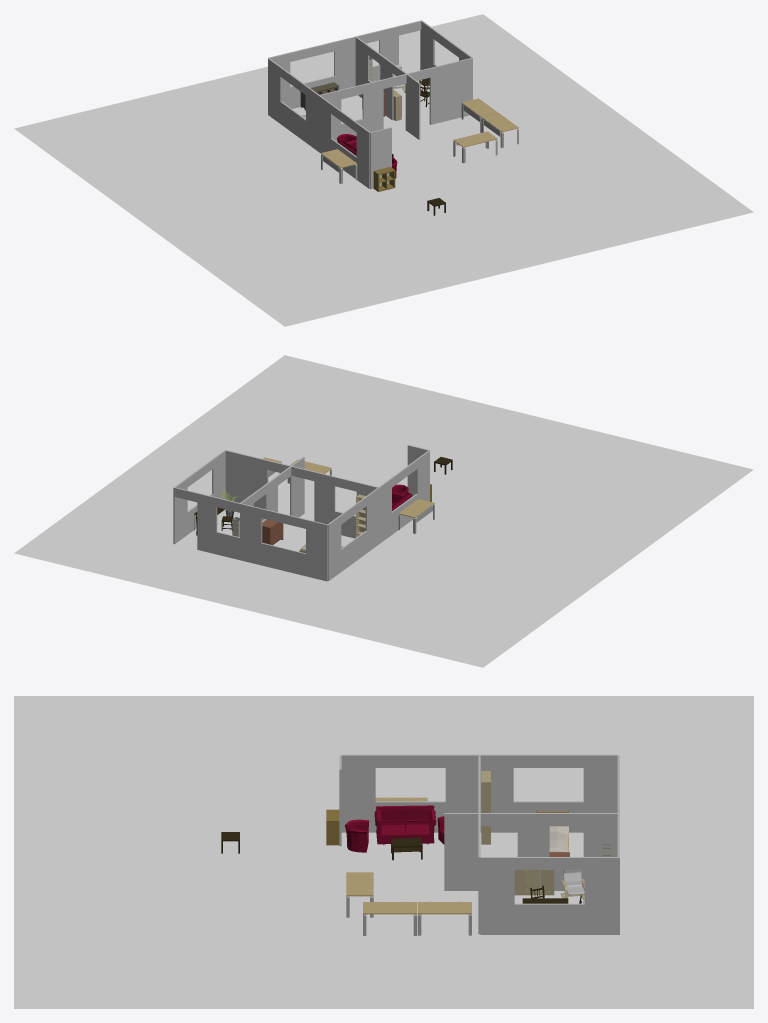
Rendered from mardi_real.dae.
3 views of the same model, one above another, from view 1: azimuth 30°, elevation 25°; view 2: azimuth 150°, elevation 25°; view 3: azimuth 270°, elevation 25° (orthographic). The views are drawn at different scales.
Visible parts, largest first — view 1: Plane, C6_plein_ext_P, office_desk_003_001, office_desk_002, office_desk_001, office_desk_003; view 2: Plane, C6_plein_ext_P, office_desk_003_001; view 3: Plane, C6_plein_ext_P, IKEA_sofa_EKTORP, office_desk_002, office_desk_003, office_desk_001, IKEA_armchair_EKTORP_001, IKEA_cupboard_BILLY_3, IKEA_bed_FJELLSE, IKEA_cupboard_BILLY_1, IKEA_chair_PELLO_001.
Part boxes in pixels (x1,y1,x2,y2): Plane: (14,14,753,326); C6_plein_ext_P: (268,20,472,189); office_desk_003_001: (321,149,357,183); office_desk_002: (482,113,518,147); office_desk_001: (453,131,497,163); office_desk_003: (461,98,498,132); Plane: (14,355,753,667); C6_plein_ext_P: (173,445,429,581); office_desk_003_001: (398,499,434,533); Plane: (14,696,753,1008); C6_plein_ext_P: (339,754,619,934); IKEA_sofa_EKTORP: (374,805,436,845); office_desk_002: (363,902,417,935); office_desk_003: (418,901,471,935); office_desk_001: (346,872,373,917); IKEA_armchair_EKTORP_001: (345,819,369,852); IKEA_cupboard_BILLY_3: (514,870,539,895); IKEA_bed_FJELLSE: (536,808,568,852); IKEA_cupboard_BILLY_1: (481,771,490,844); IKEA_chair_PELLO_001: (560,870,584,900).
Bounding box in the file's own units: 21.8 × 21.8 × 2.52.
